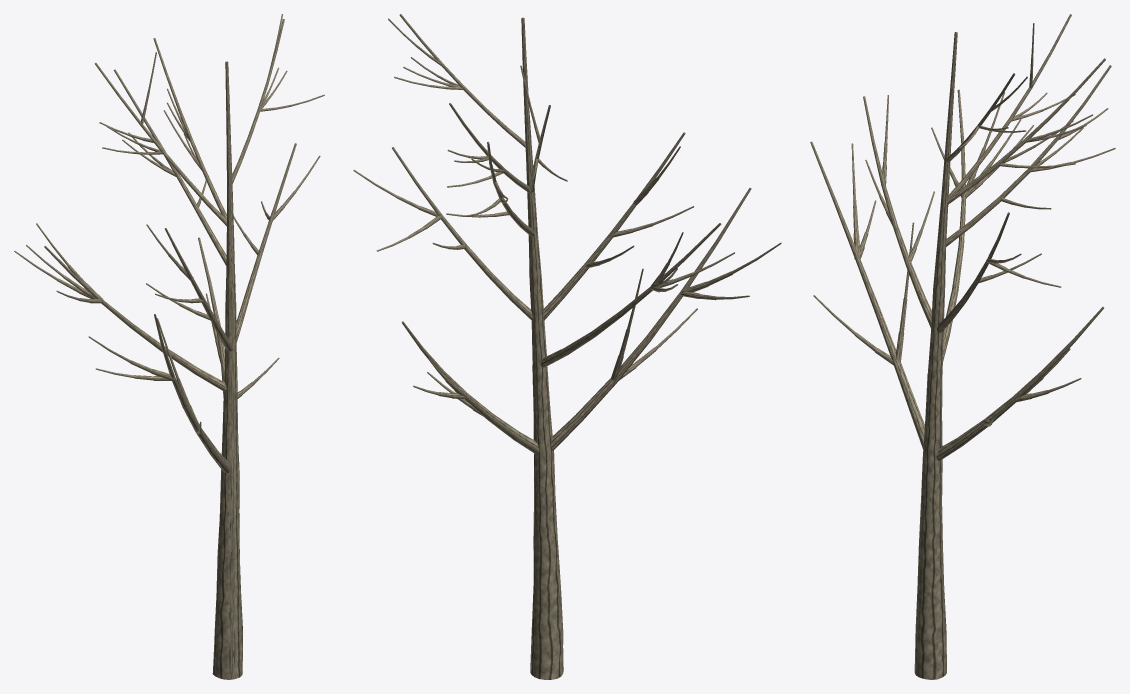
The model's file is saplingTrunkLOD0.obj.
3 views of the same model, side by side, from view 1: azimuth 30°, elevation 25°; view 2: azimuth 150°, elevation 25°; view 3: azimuth 270°, elevation 25° (orthographic). The views are drawn at different scales.
Parts seen in each view (by area): view 1: LuaSaplingTrunkLOD0; view 2: LuaSaplingTrunkLOD0; view 3: LuaSaplingTrunkLOD0.
Boxes of the visible parts, left/top/right/bottom form: LuaSaplingTrunkLOD0: left=14, top=14, right=324, bottom=679; LuaSaplingTrunkLOD0: left=353, top=14, right=781, bottom=679; LuaSaplingTrunkLOD0: left=810, top=14, right=1115, bottom=679.
Size of the model in its own units: 1.56 by 2.89 by 1.24.
